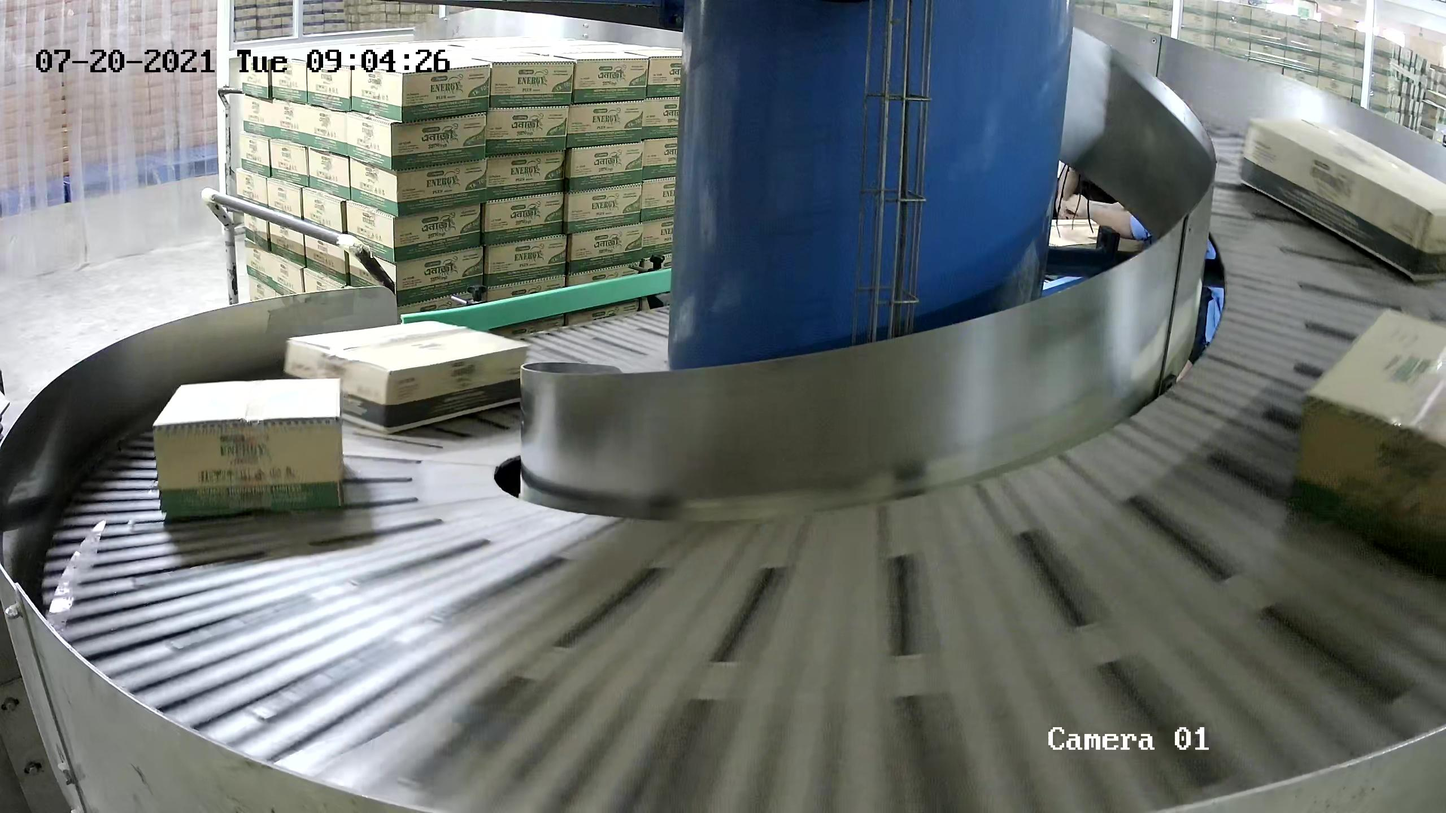Box: (1287, 306, 1446, 576), (1238, 116, 1446, 281), (283, 319, 532, 434), (151, 376, 344, 513)
